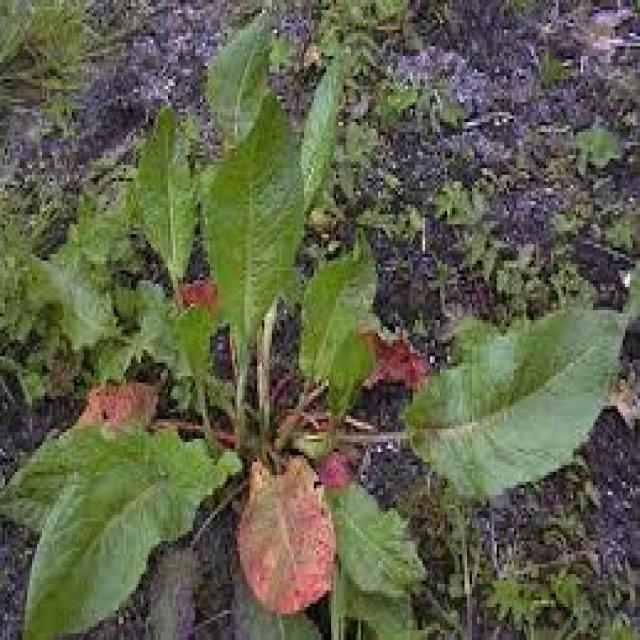organic waste: (10, 89, 635, 640)
